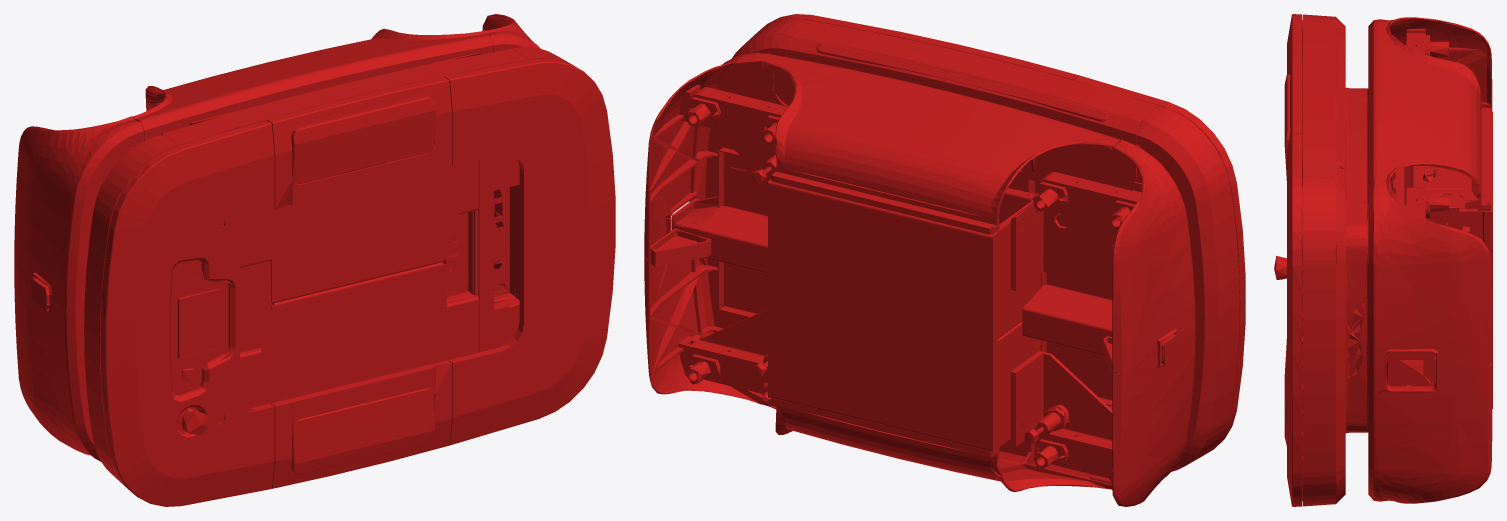
File: base_link_stanford.obj
3 views of the same model, side by side, from view 1: azimuth 30°, elevation 25°; view 2: azimuth 150°, elevation 25°; view 3: azimuth 270°, elevation 25° (orthographic). The views are drawn at different scales.
Parts seen in each view (by area): view 1: base_link; view 2: base_link; view 3: base_link.
Boxes of the visible parts, <box> form: base_link: <box>14,14,615,506</box>; base_link: <box>644,14,1245,506</box>; base_link: <box>1274,14,1492,506</box>.
Bounding box in the file's own units: 0.7163 × 0.4947 × 0.2922.
